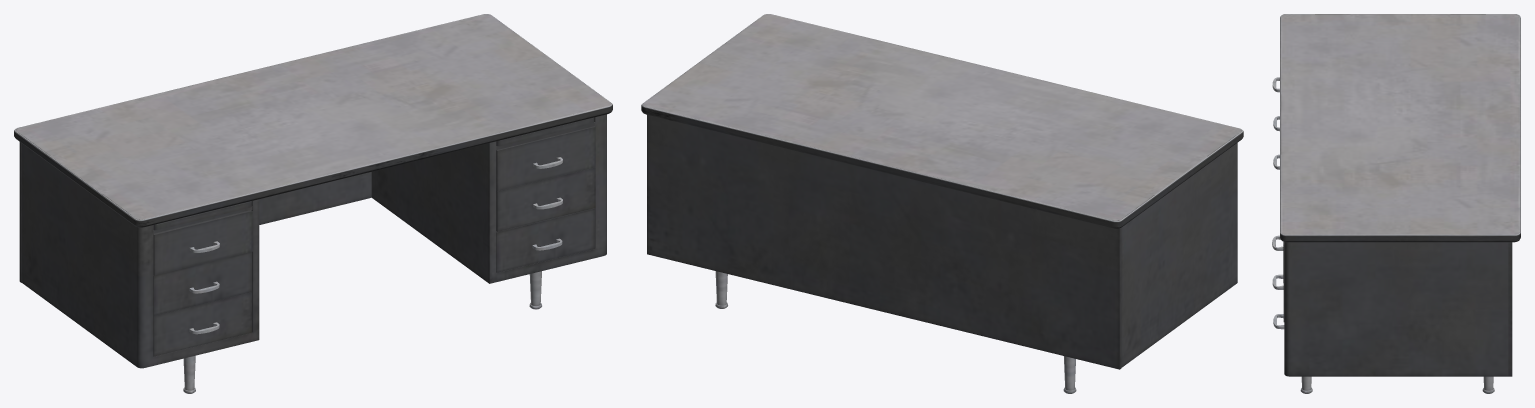
File: metal_office_desk.glb
3 views of the same model, side by side, from view 1: azimuth 30°, elevation 25°; view 2: azimuth 150°, elevation 25°; view 3: azimuth 270°, elevation 25° (orthographic). The views are drawn at different scales.
Parts seen in each view (by area): view 1: metal_office_desk, metal_office_desk_drawer_04, metal_office_desk_drawer_01, metal_office_desk_drawer_02, metal_office_desk_drawer_03, metal_office_desk_drawer_06, metal_office_desk_drawer_05, metal_office_desk_tray_01, metal_office_desk_tray_02; view 2: metal_office_desk; view 3: metal_office_desk.
Part boxes in pixels (<box>): metal_office_desk: <box>14,14,612,393</box>; metal_office_desk_drawer_04: <box>153,210,252,275</box>; metal_office_desk_drawer_01: <box>496,126,595,191</box>; metal_office_desk_drawer_02: <box>496,167,595,231</box>; metal_office_desk_drawer_03: <box>496,208,594,272</box>; metal_office_desk_drawer_06: <box>153,292,251,356</box>; metal_office_desk_drawer_05: <box>153,252,251,315</box>; metal_office_desk_tray_01: <box>153,201,251,230</box>; metal_office_desk_tray_02: <box>496,117,594,146</box>; metal_office_desk: <box>641,14,1243,393</box>; metal_office_desk: <box>1280,14,1520,393</box>.
Bounding box in the file's own units: 2 × 0.7875 × 0.9472.
Materials: 1 (1 with a texture image).
